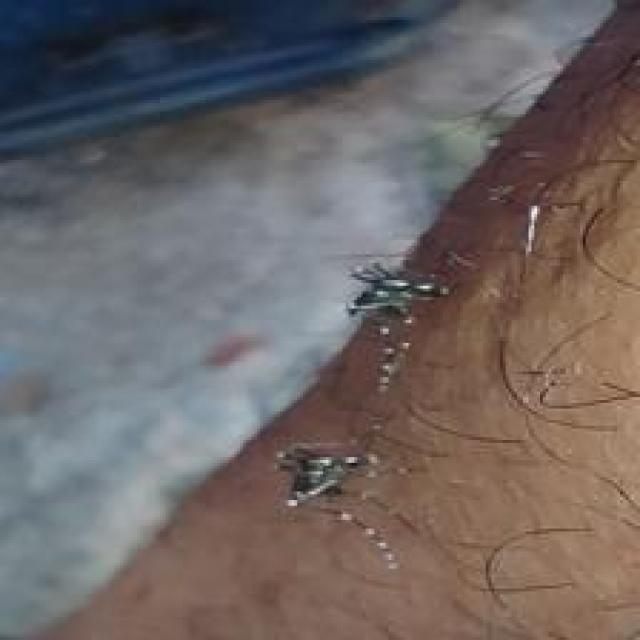Aedes albopictus: (344, 258, 450, 322)
